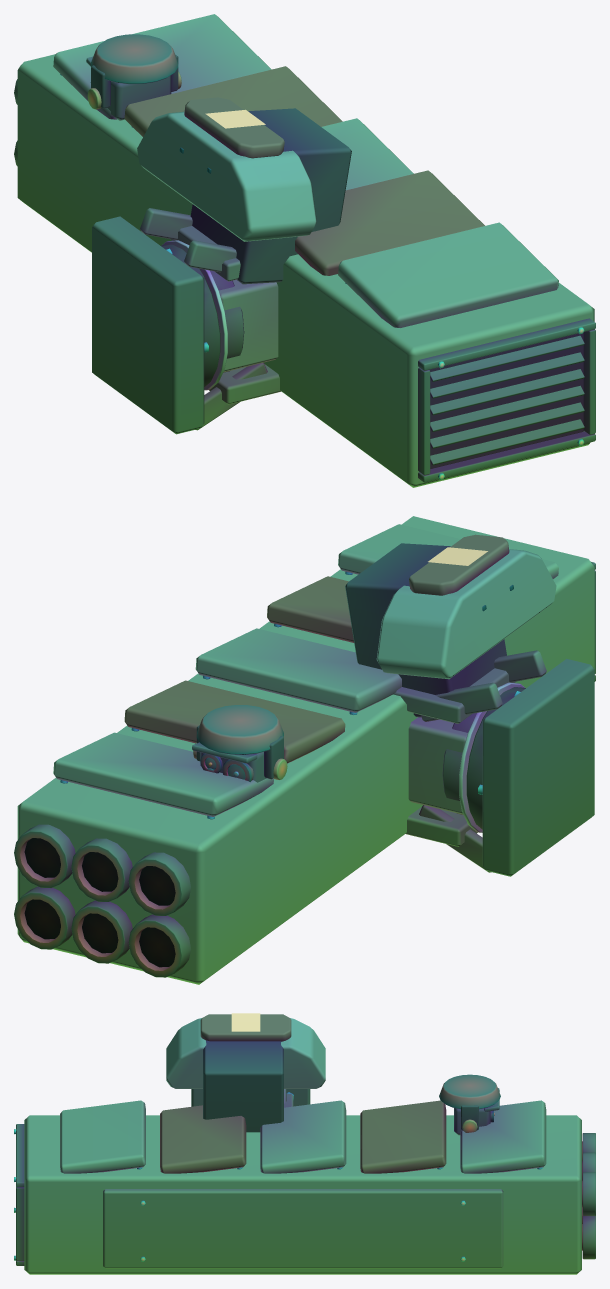
File: arm_tos220.glb
3 views of the same model, one above another, from view 1: azimuth 30°, elevation 25°; view 2: azimuth 150°, elevation 25°; view 3: azimuth 270°, elevation 25° (orthographic). The views are drawn at different scales.
Visible parts, largest first — view 1: Body__armor, Body__gunmetal, Body__armor_oxide, Body__dark, Body__armor_sub, Body__chrome, Body__armor_dark, Body__decal; view 2: Body__armor, Body__gunmetal, Body__armor_oxide, Body__dark, Body__armor_sub, Body__bore, Body__chrome, Body__decal; view 3: Body__armor, Body__armor_sub, Body__armor_oxide, Body__dark, Body__gunmetal, Body__decal, Body__armor_dark.
Boxes of the visible parts, left/top/right/bottom form: Body__armor: left=17, top=14, right=594, bottom=487; Body__gunmetal: left=14, top=34, right=595, bottom=482; Body__armor_oxide: left=124, top=66, right=484, bottom=275; Body__dark: left=91, top=55, right=583, bottom=468; Body__armor_sub: left=140, top=208, right=281, bottom=430; Body__chrome: left=60, top=74, right=584, bottom=479; Body__armor_dark: left=107, top=75, right=171, bottom=120; Body__decal: left=205, top=109, right=265, bottom=128; Body__armor: left=17, top=516, right=594, bottom=984; Body__gunmetal: left=14, top=562, right=595, bottom=977; Body__armor_oxide: left=124, top=534, right=509, bottom=763; Body__dark: left=196, top=543, right=525, bottom=829; Body__armor_sub: left=393, top=650, right=546, bottom=872; Body__bore: left=24, top=838, right=175, bottom=967; Body__chrome: left=60, top=571, right=524, bottom=832; Body__decal: left=428, top=547, right=487, bottom=565; Body__armor: left=24, top=1018, right=581, bottom=1274; Body__armor_sub: left=103, top=1089, right=503, bottom=1268; Body__armor_oxide: left=160, top=1014, right=582, bottom=1223; Body__dark: left=203, top=1040, right=478, bottom=1132; Body__gunmetal: left=16, top=1074, right=595, bottom=1265; Body__decal: left=231, top=1013, right=260, bottom=1031; Body__armor_dark: left=454, top=1108, right=490, bottom=1135.
Bounding box in the file's own units: 1.09 × 0.9269 × 2.44.
